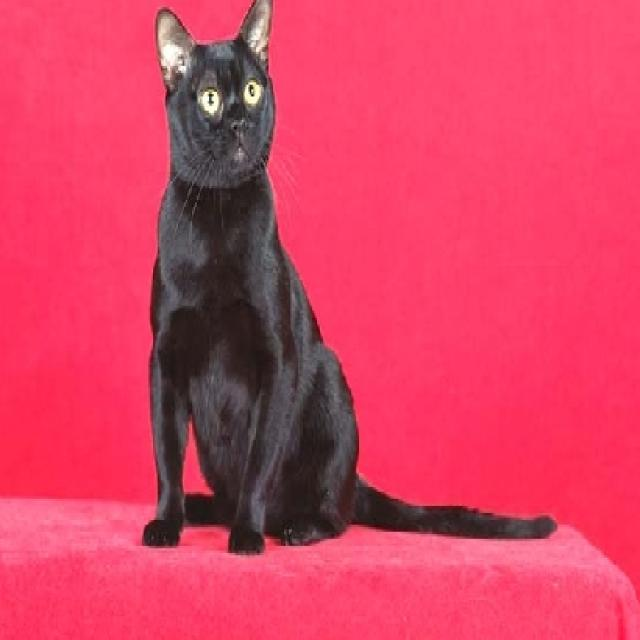Bombay: (137, 0, 558, 555)
